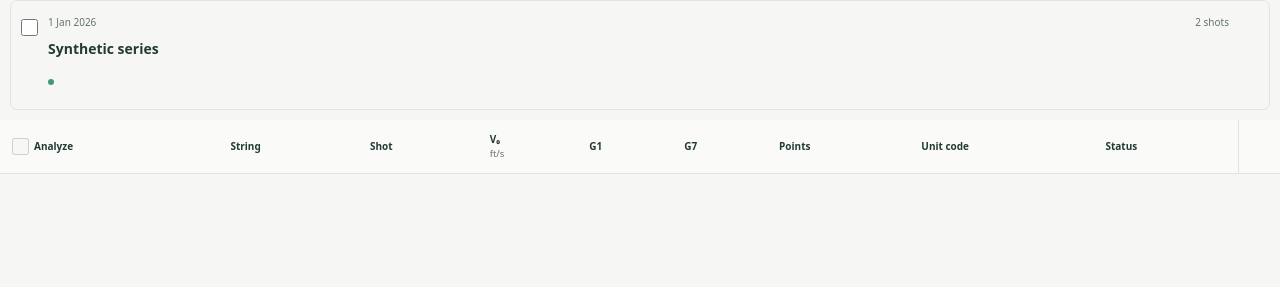
linked shot controls › keeps deselected rows available in the table and restores choices after reselecting series
The width and height of the screenshot is (1280, 287).
Click the checkbox named "Select series Synthetic series" at (30, 28), box [21, 19, 38, 36]
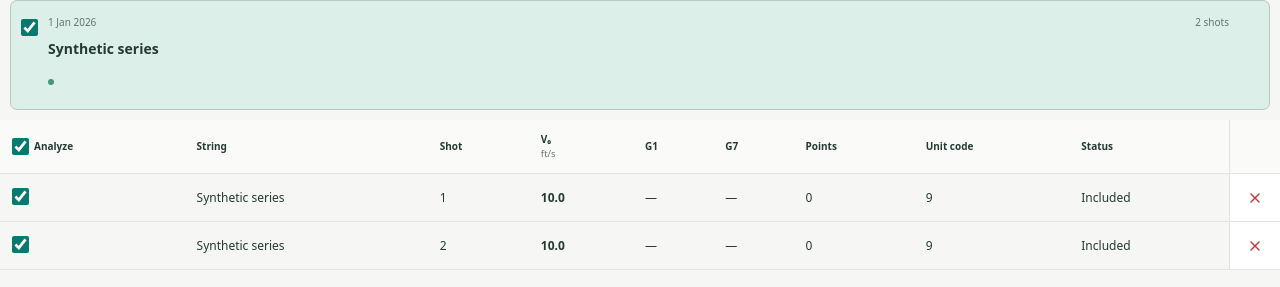
Now the checkbox named "Select shot 1 in Synthetic series" is checked
Click the checkbox named "Select shot 1 in Synthetic series" at (20, 197), box [12, 188, 29, 205]
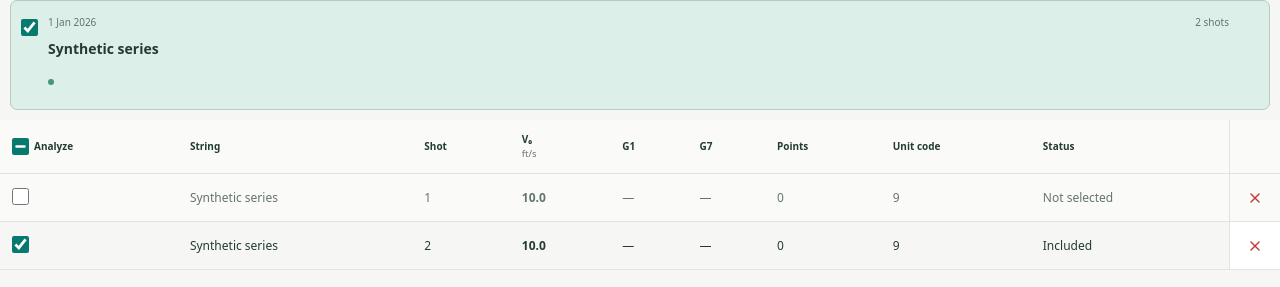
Now the row named "Shot 2 in Synthetic series" is shown, box [0, 222, 1279, 270]
Now the row named "Shot 1 in Synthetic series" shows "Not selected", box [1043, 189, 1113, 206]
Click the checkbox named "Select series Synthetic series" at (30, 28), box [21, 19, 38, 36]
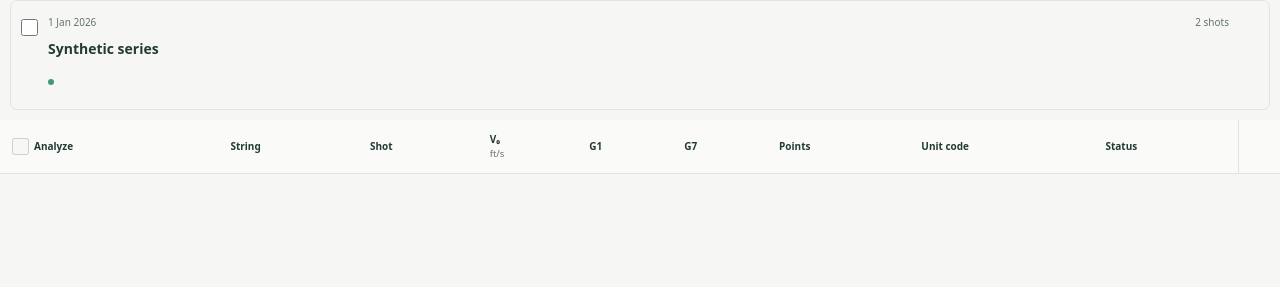
Click the checkbox named "Select series Synthetic series" at (30, 28), box [21, 19, 38, 36]
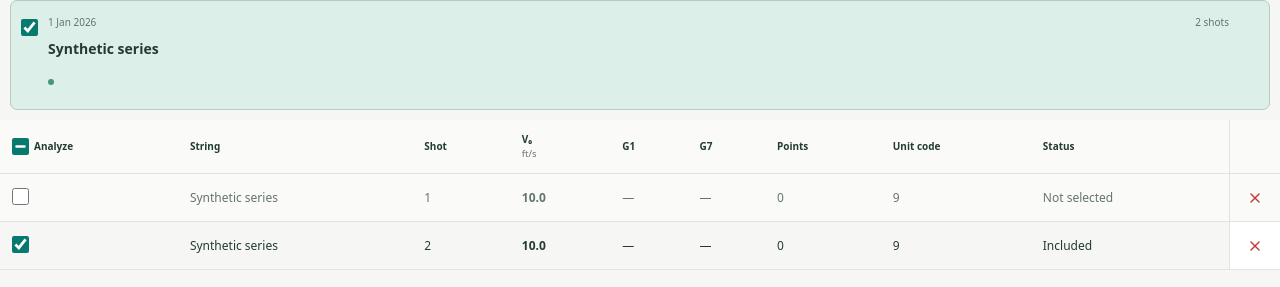
Now the checkbox named "Select shot 1 in Synthetic series" is not checked, box [12, 188, 29, 205]
